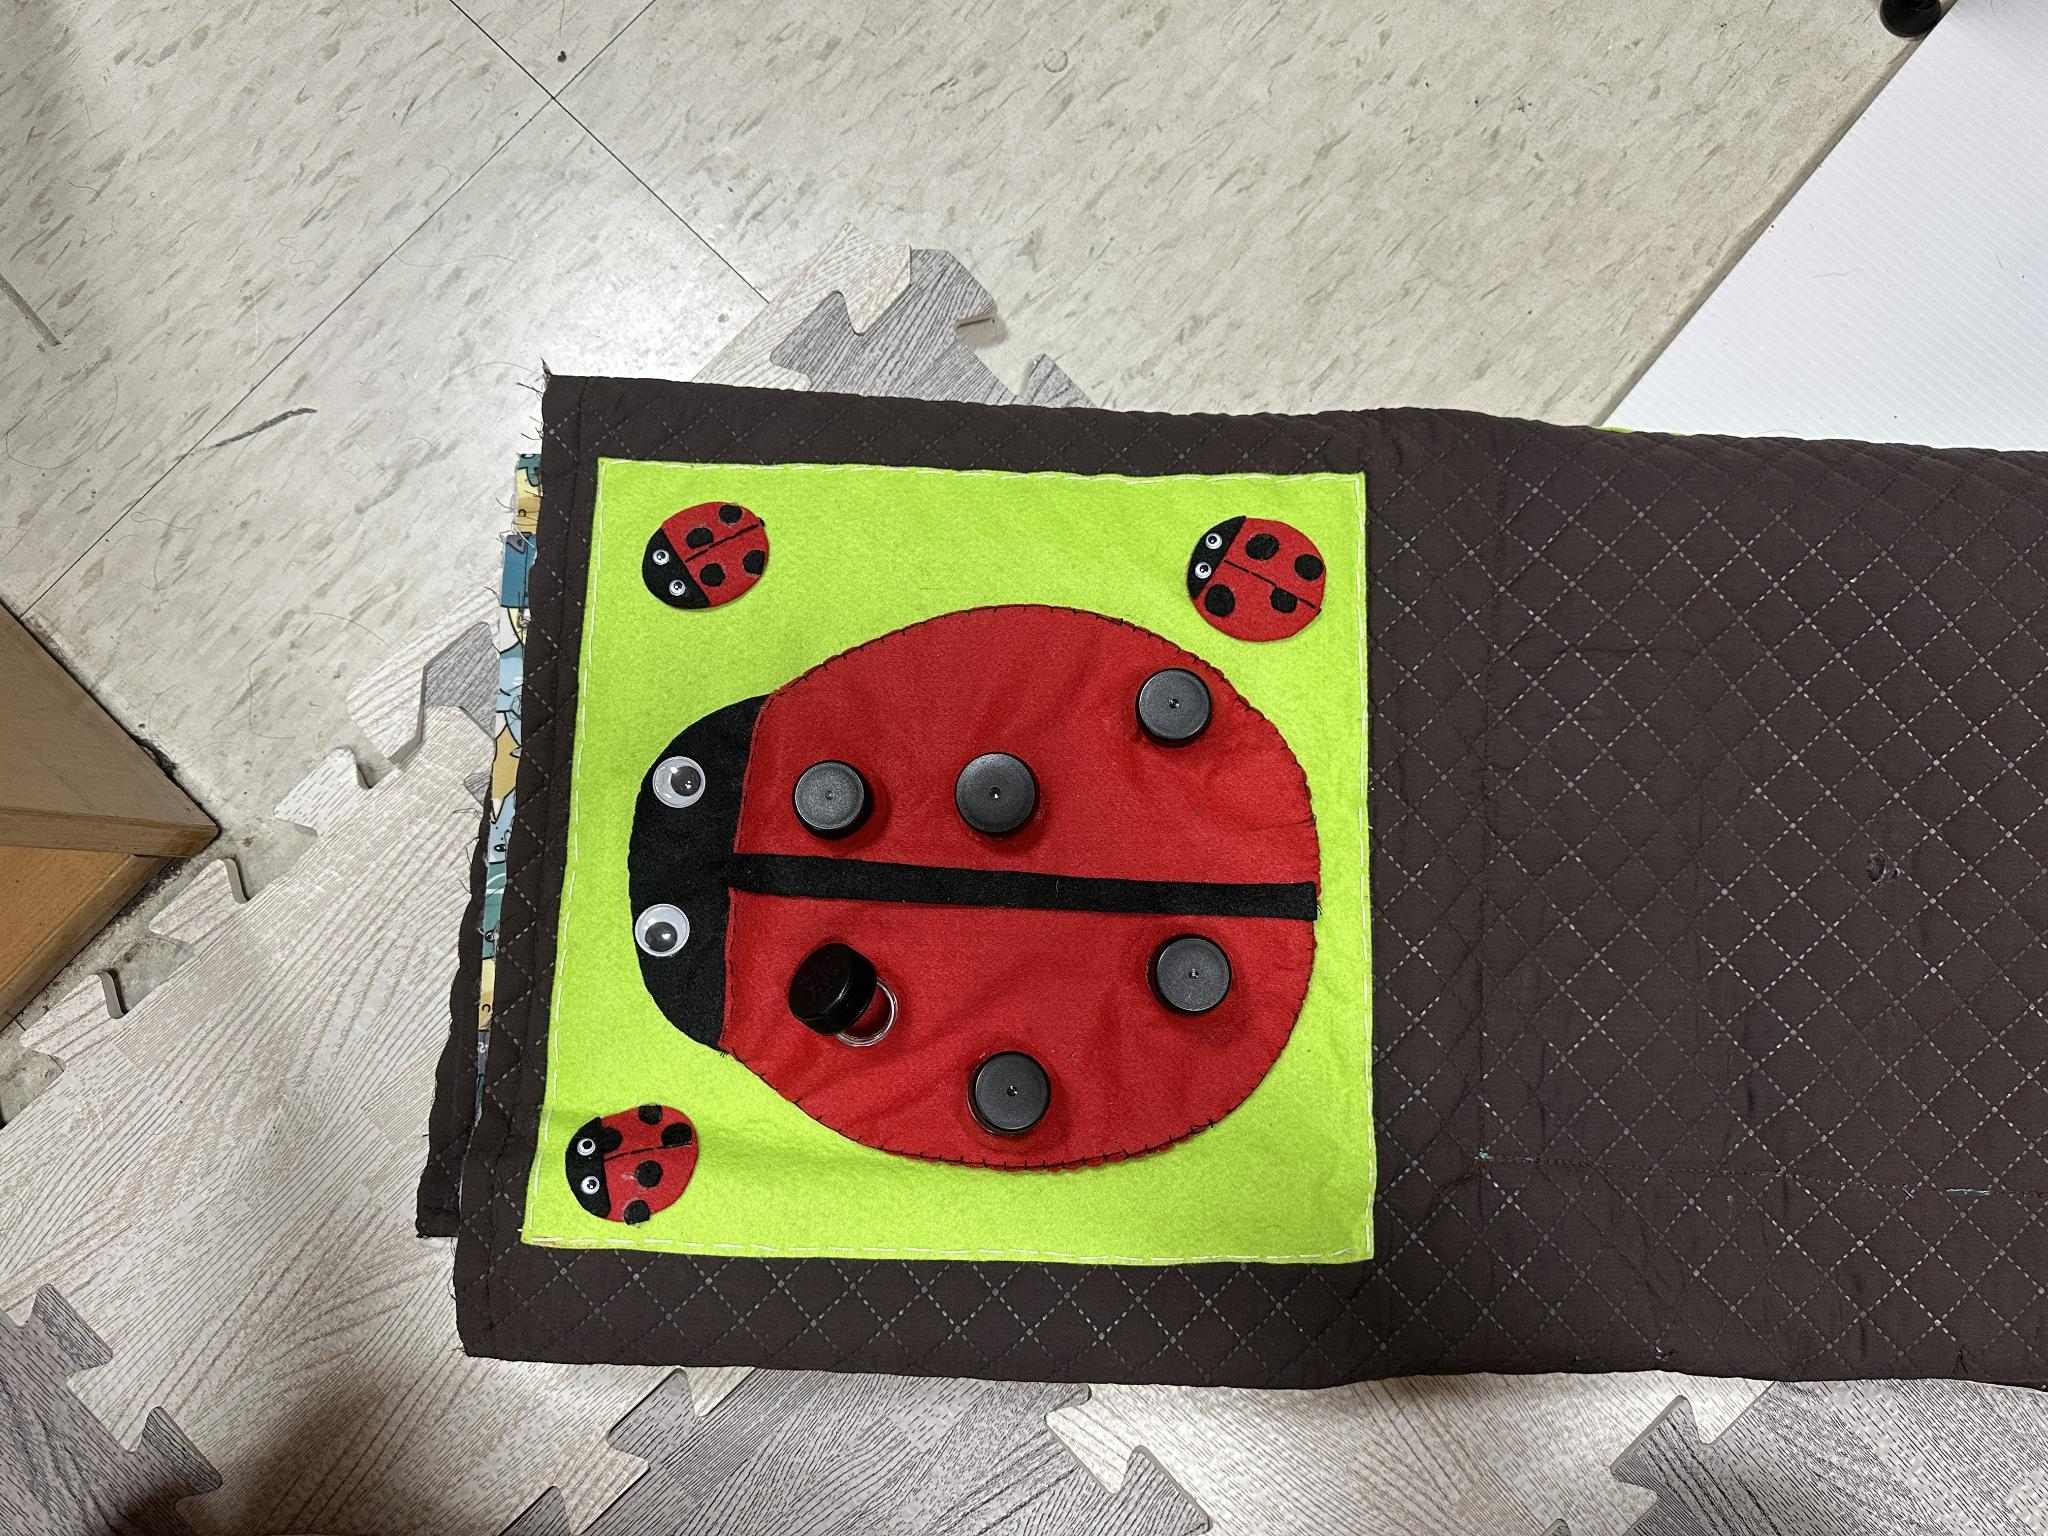cap_ng: (779, 928, 919, 1076)
cap_ok: (1140, 920, 1256, 1037), (956, 1031, 1063, 1157), (948, 742, 1055, 852), (1122, 655, 1226, 752), (792, 750, 882, 844)
